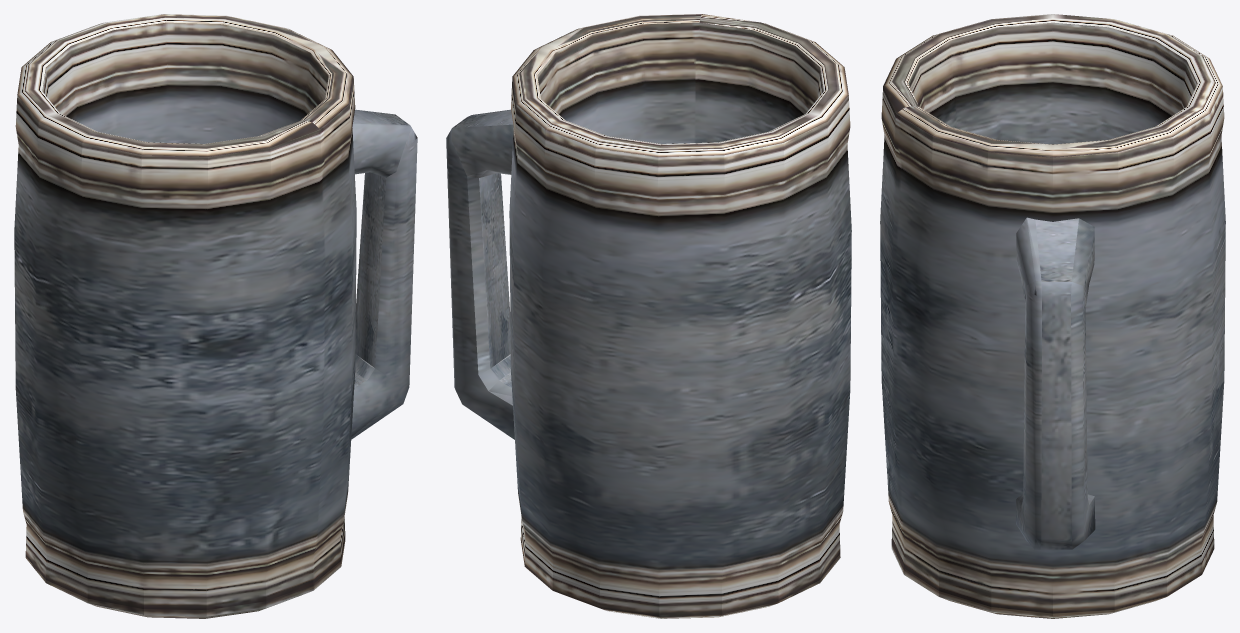
File: pot.fbx
The picture shows the model from 3 angles, left to right: view 1: azimuth 30°, elevation 25°; view 2: azimuth 150°, elevation 25°; view 3: azimuth 270°, elevation 25°; orthographic projection.
Visible parts, largest first — view 1: Mesh Object; view 2: Mesh Object; view 3: Mesh Object.
Part boxes in pixels (x1,y1,x2,y2): Mesh Object: (14, 14, 417, 618); Mesh Object: (446, 14, 851, 618); Mesh Object: (880, 14, 1225, 618).
Size of the model in its own units: 0.1917 by 0.2327 by 0.1533.
